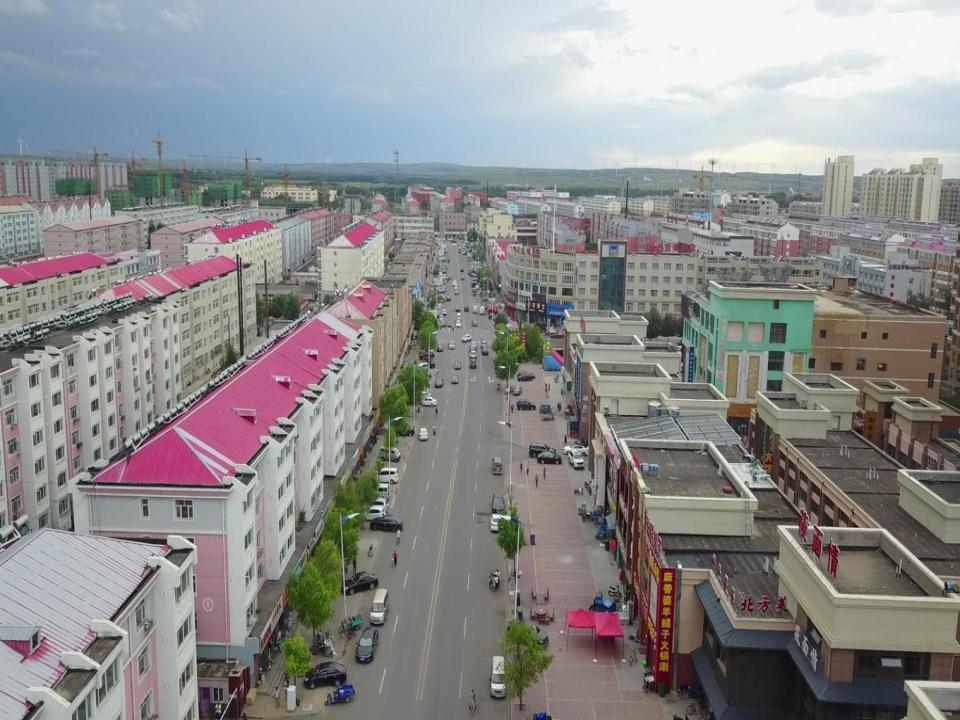car: (505, 618, 550, 648), (304, 661, 347, 689), (340, 570, 379, 595), (355, 626, 380, 663), (368, 515, 404, 532), (363, 495, 388, 515), (358, 505, 386, 522), (528, 442, 556, 458), (536, 450, 562, 465), (568, 448, 585, 470), (563, 444, 590, 456), (489, 512, 503, 533), (492, 493, 506, 513), (393, 424, 415, 436), (574, 434, 592, 448), (516, 398, 536, 410), (420, 395, 438, 407), (414, 390, 432, 402), (418, 349, 435, 361), (516, 369, 536, 379), (417, 426, 430, 441), (516, 373, 532, 382), (550, 331, 566, 340), (422, 359, 436, 369), (434, 376, 444, 388), (460, 333, 472, 343), (512, 385, 522, 396), (450, 373, 459, 385), (504, 383, 513, 394), (469, 358, 478, 369), (454, 358, 462, 370), (547, 326, 556, 336), (447, 339, 455, 350), (478, 304, 486, 315), (469, 341, 478, 350), (436, 343, 444, 353), (454, 319, 462, 329), (470, 348, 477, 359), (472, 304, 479, 315), (480, 339, 488, 348), (446, 318, 453, 328), (440, 308, 448, 316), (482, 346, 489, 355), (471, 319, 478, 328), (455, 303, 460, 313), (463, 304, 469, 312), (440, 319, 445, 328), (456, 312, 461, 321)
van: (368, 588, 390, 626), (489, 655, 507, 698), (372, 466, 399, 485), (378, 444, 401, 463), (368, 482, 390, 500), (492, 456, 503, 476), (414, 362, 430, 374)
